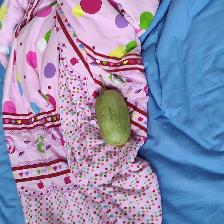gua: (95, 89, 129, 141)
